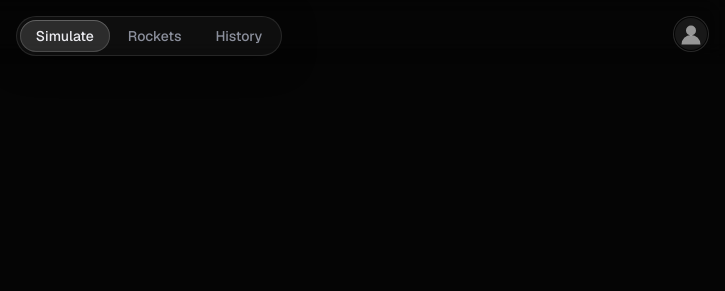
AccountMenu › opens a panel with the user's email and organization
Click the button named "Account": (691, 34) [673,16,709,52]
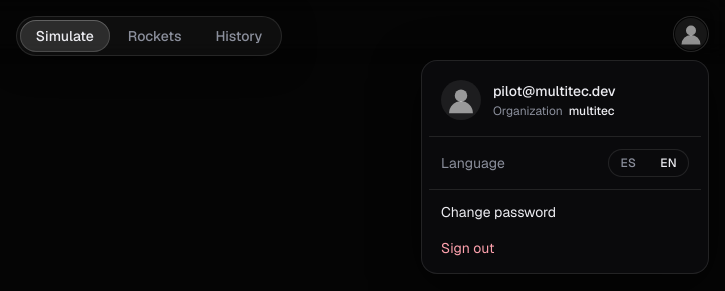
expect the text "pilot@multitec.dev" is shown: met, box [493,81,616,101]
expect the text "Organization" is shown: met, box [493,103,563,119]
expect the text "multitec" is shown: met, box [569,103,615,119]
